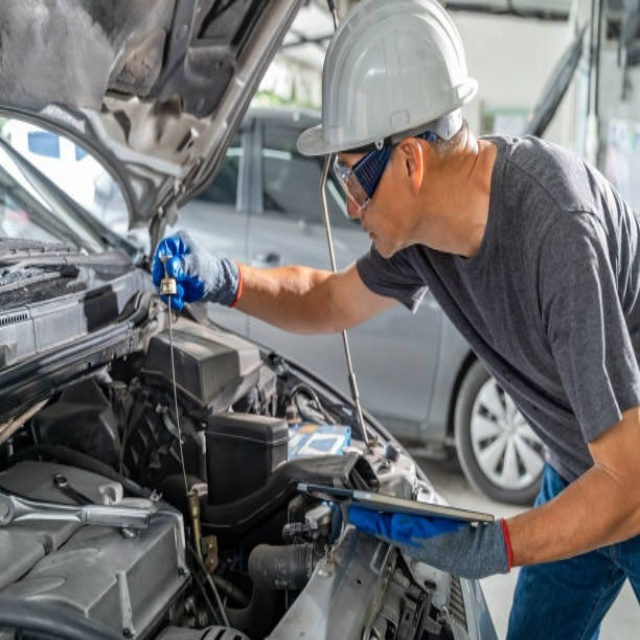Gafas: (332, 132, 433, 216)
Guantes: (358, 510, 511, 581), (151, 226, 242, 308)
Sin_mascara: (356, 216, 402, 260)
